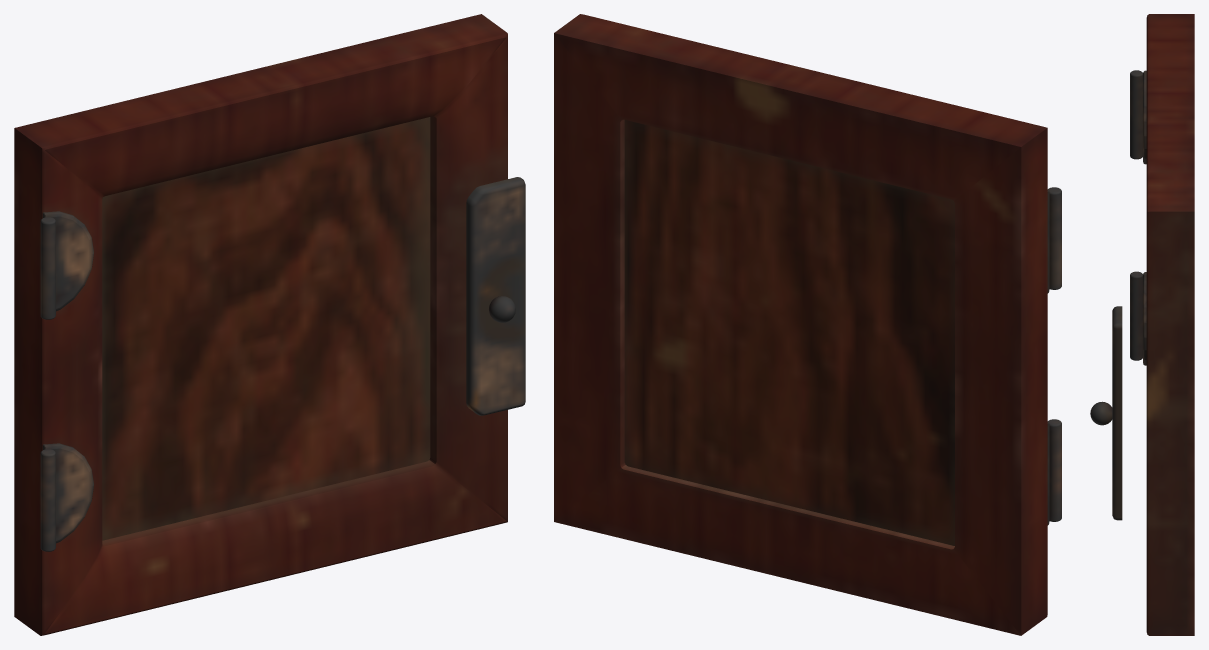
Rendered from SM_ThreetieredCupboard_door07.fbx.
3 views of the same model, side by side, from view 1: azimuth 30°, elevation 25°; view 2: azimuth 150°, elevation 25°; view 3: azimuth 270°, elevation 25° (orthographic). The views are drawn at different scales.
Visible parts, largest first — view 1: SM_ThreetieredCupboard_door07; view 2: SM_ThreetieredCupboard_door07; view 3: SM_ThreetieredCupboard_door07.
Part boxes in pixels (bbox=[...]): SM_ThreetieredCupboard_door07: bbox=[14, 14, 525, 635]; SM_ThreetieredCupboard_door07: bbox=[554, 14, 1061, 635]; SM_ThreetieredCupboard_door07: bbox=[1090, 14, 1194, 635].
Size of the model in its own units: 29.31 by 28.92 by 6.44.
Materials: 1 (1 with a texture image).
